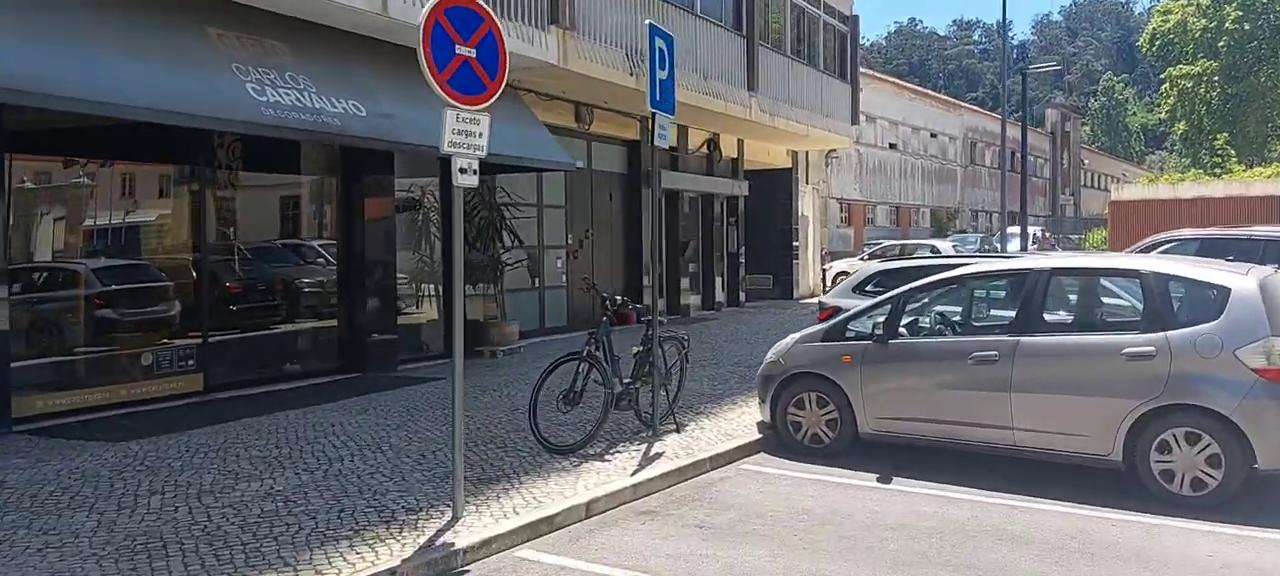Estacionamento autorizado: (647, 20, 678, 122)
